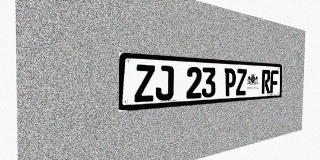2: (186, 66, 202, 99)
3: (202, 67, 216, 98)
F: (270, 70, 278, 93)
J: (155, 65, 174, 101)
P: (224, 68, 236, 96)
R: (261, 70, 270, 94)
Z: (134, 64, 155, 102), (236, 69, 247, 96)
